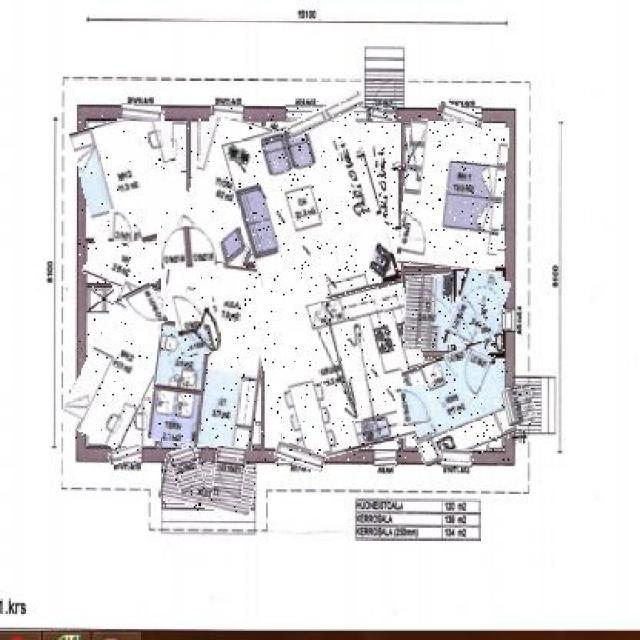door: (174, 290, 223, 356), (158, 225, 217, 269), (212, 446, 245, 502), (126, 284, 163, 330), (448, 299, 484, 343), (458, 351, 492, 397), (396, 385, 432, 426), (171, 450, 203, 492), (503, 386, 535, 426), (398, 217, 429, 258), (111, 209, 134, 242)
window: (286, 100, 366, 131), (276, 443, 326, 469), (437, 106, 483, 125), (120, 105, 160, 122), (109, 446, 142, 465), (442, 449, 469, 468), (371, 450, 395, 468), (211, 106, 243, 119), (372, 106, 394, 122)
zone: (243, 114, 422, 452), (260, 292, 408, 460), (154, 262, 268, 448), (80, 114, 197, 286), (74, 285, 172, 446), (402, 122, 506, 269), (182, 117, 270, 268), (397, 348, 511, 460), (160, 458, 255, 512), (449, 271, 505, 354), (404, 277, 454, 351), (85, 242, 157, 289), (159, 330, 206, 396), (158, 396, 208, 446)
